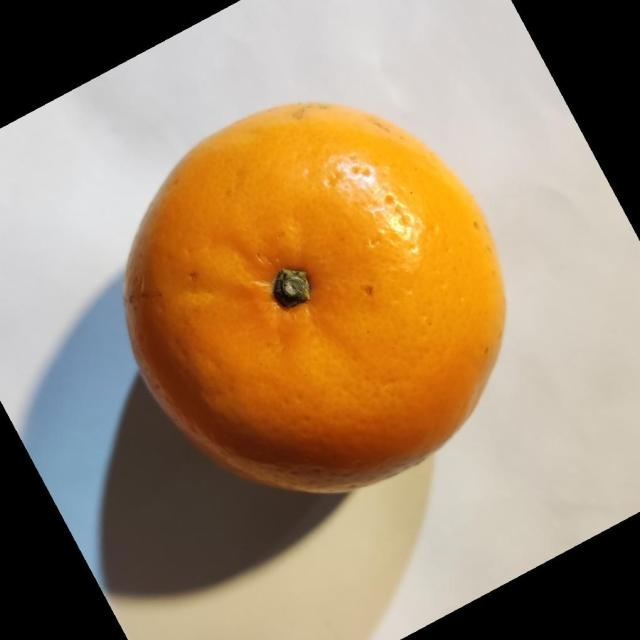agrume: (122, 100, 507, 495)
